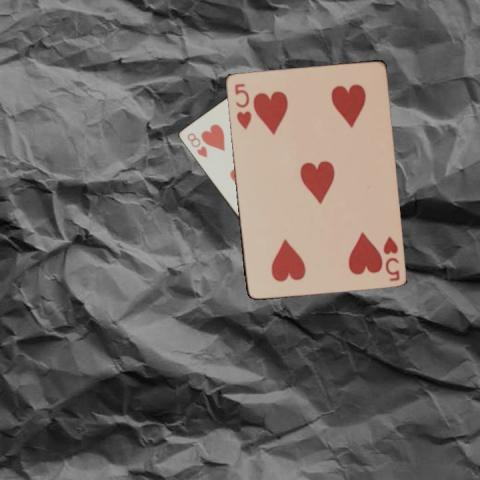5h: (231, 80, 253, 131), (380, 233, 401, 282)
8h: (183, 130, 209, 159)
